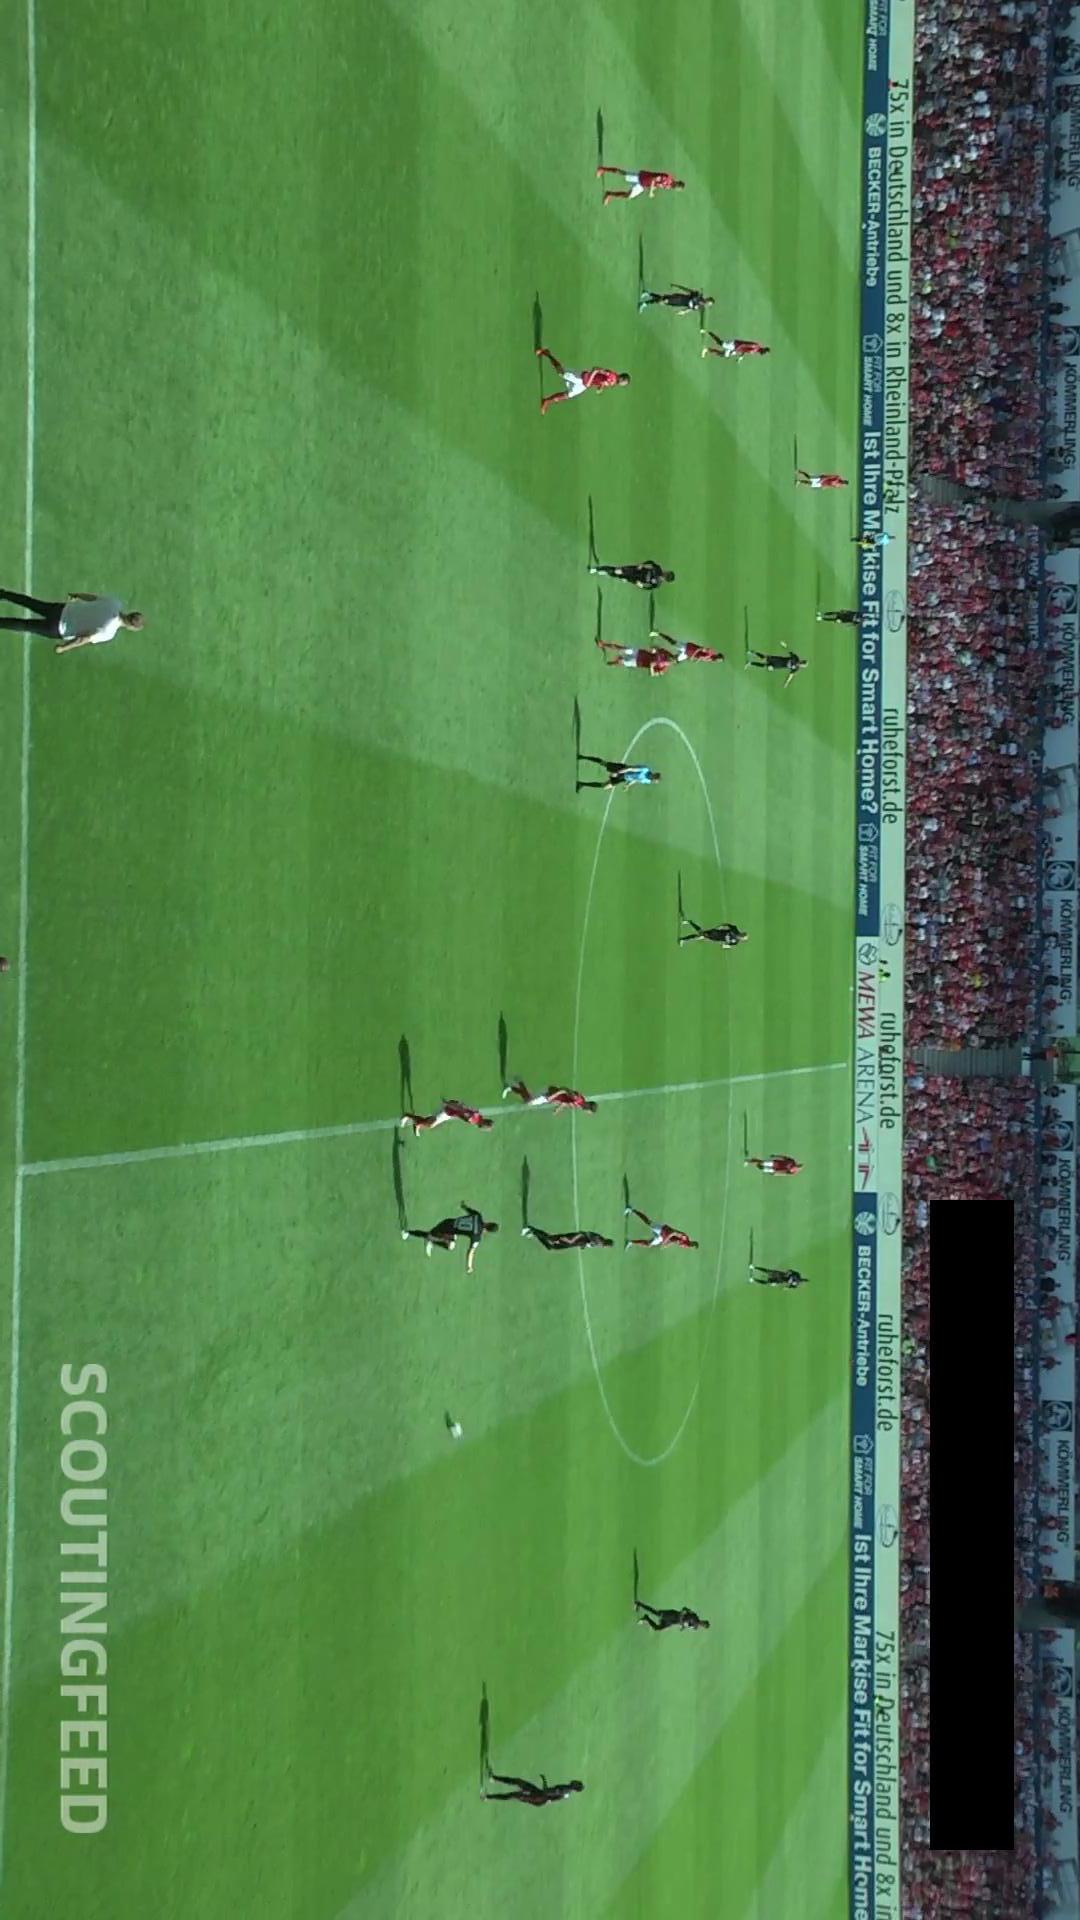ball: (447, 1422, 463, 1440)
player: (401, 1200, 500, 1274), (535, 347, 631, 416), (502, 1077, 599, 1117), (481, 1769, 585, 1806), (401, 1098, 495, 1137), (597, 166, 686, 207), (623, 1206, 700, 1252), (743, 638, 808, 690), (595, 638, 681, 676), (648, 629, 726, 664), (588, 560, 676, 591), (634, 1600, 710, 1634), (638, 283, 716, 316), (700, 327, 772, 362), (522, 1225, 615, 1252), (677, 917, 750, 949), (748, 1264, 810, 1290), (744, 1154, 804, 1175), (794, 468, 850, 489), (815, 608, 872, 627)
referee: (576, 754, 662, 795), (850, 532, 896, 547)
